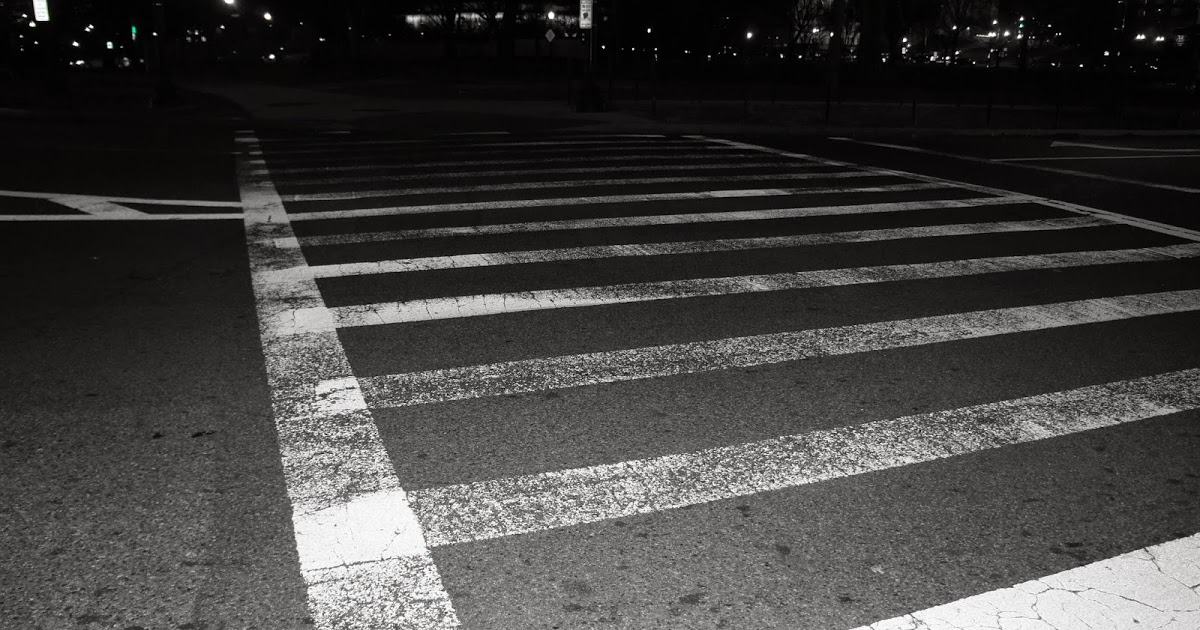pedestrian lane: (226, 113, 1200, 630)
